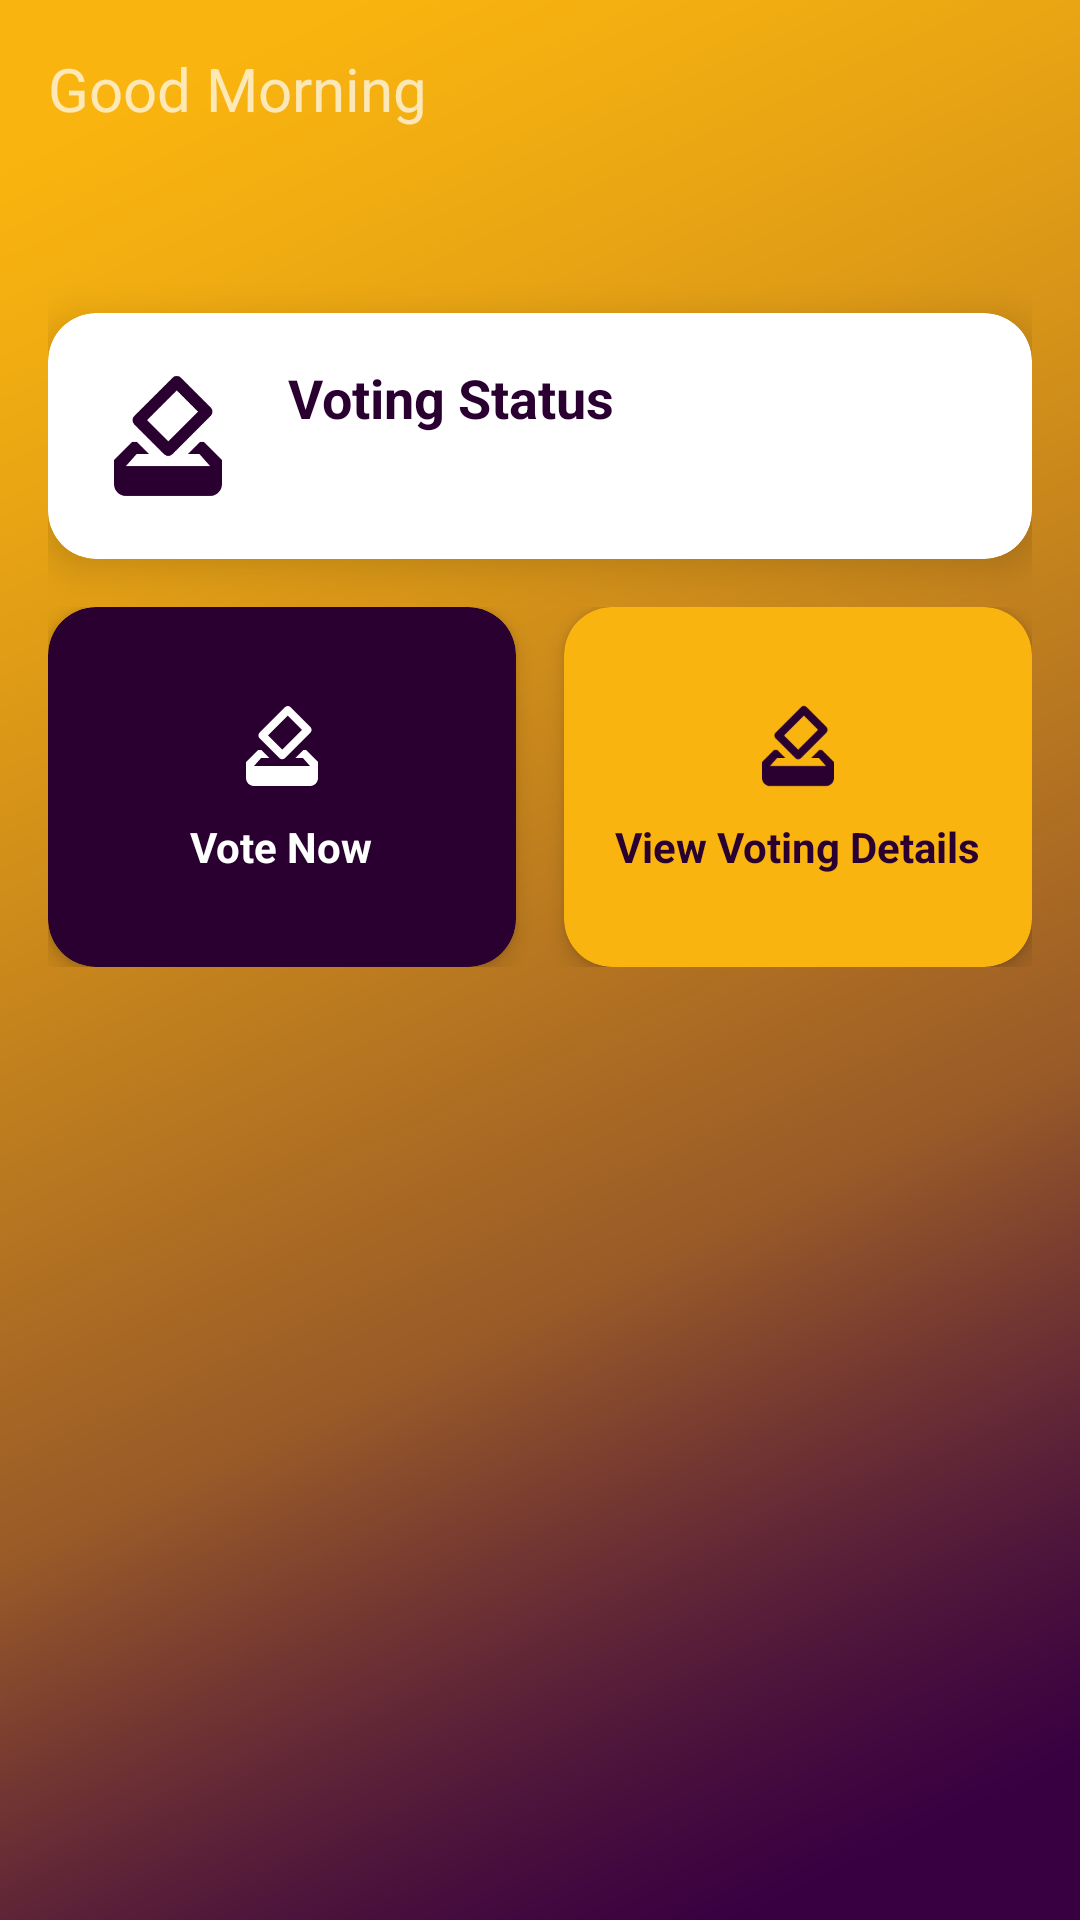

Where icons sit on this 1080×1920 app screen, as (x1, y1, x2, y2):
how to vote: (114, 376, 222, 496), (762, 705, 834, 787), (246, 706, 318, 786)
